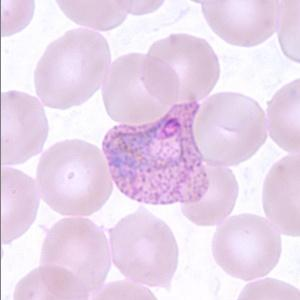Infected: (103, 98, 206, 202)
Uninfected: (33, 29, 111, 110), (35, 138, 113, 216), (141, 34, 223, 106), (39, 216, 111, 298), (191, 90, 269, 165), (104, 50, 182, 125), (111, 206, 179, 290), (211, 214, 280, 280), (179, 162, 239, 228)
